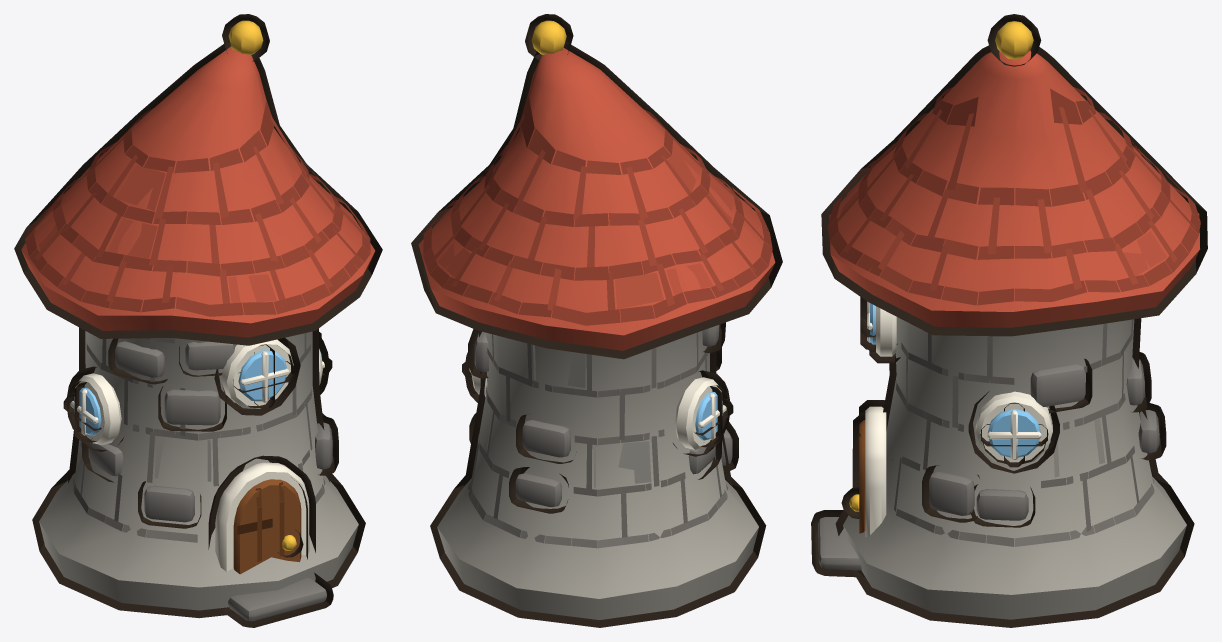
Rendered from house-5.glb.
3 renders of one model, left to right at view 1: azimuth 30°, elevation 25°; view 2: azimuth 150°, elevation 25°; view 3: azimuth 270°, elevation 25°, orthographic. The views are drawn at different scales.
Parts seen in each view (by area): view 1: house-5; view 2: house-5; view 3: house-5.
Boxes of the visible parts, x1,y1,x2,y2 form: house-5: (14,14,382,627); house-5: (411,14,782,627); house-5: (811,14,1207,627).
Bounding box in the file's own units: 2.66 × 4.19 × 2.66.
